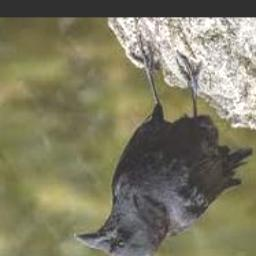Crow: (74, 39, 251, 256)
